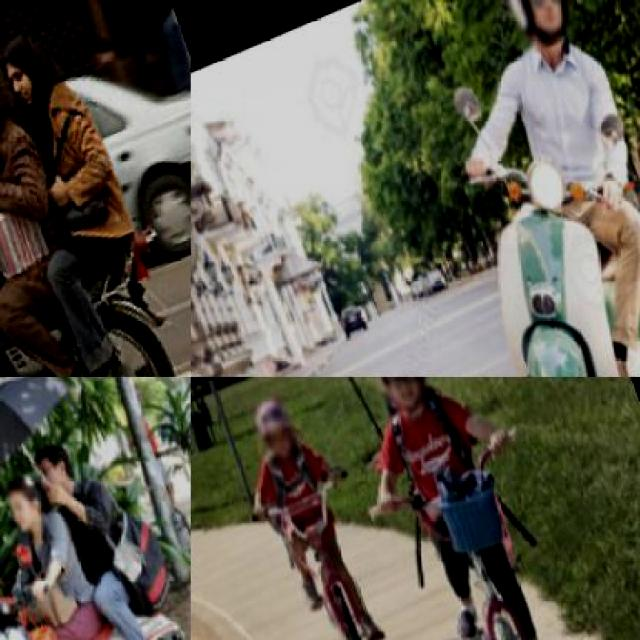With Helmet: (490, 0, 588, 68), (246, 391, 308, 478), (359, 377, 443, 432)
Without Helmet: (0, 32, 68, 126), (0, 463, 68, 557), (0, 60, 18, 160)
